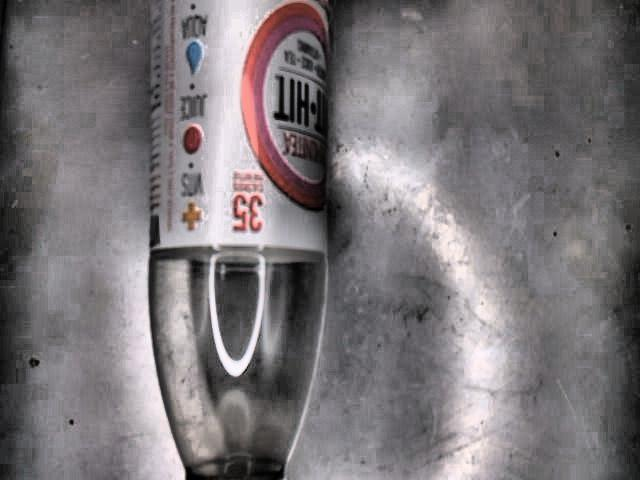Bottles: (148, 0, 327, 480)
